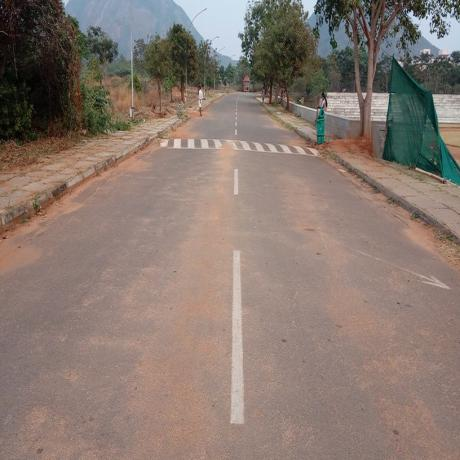Speed Bump: (158, 137, 319, 157)
